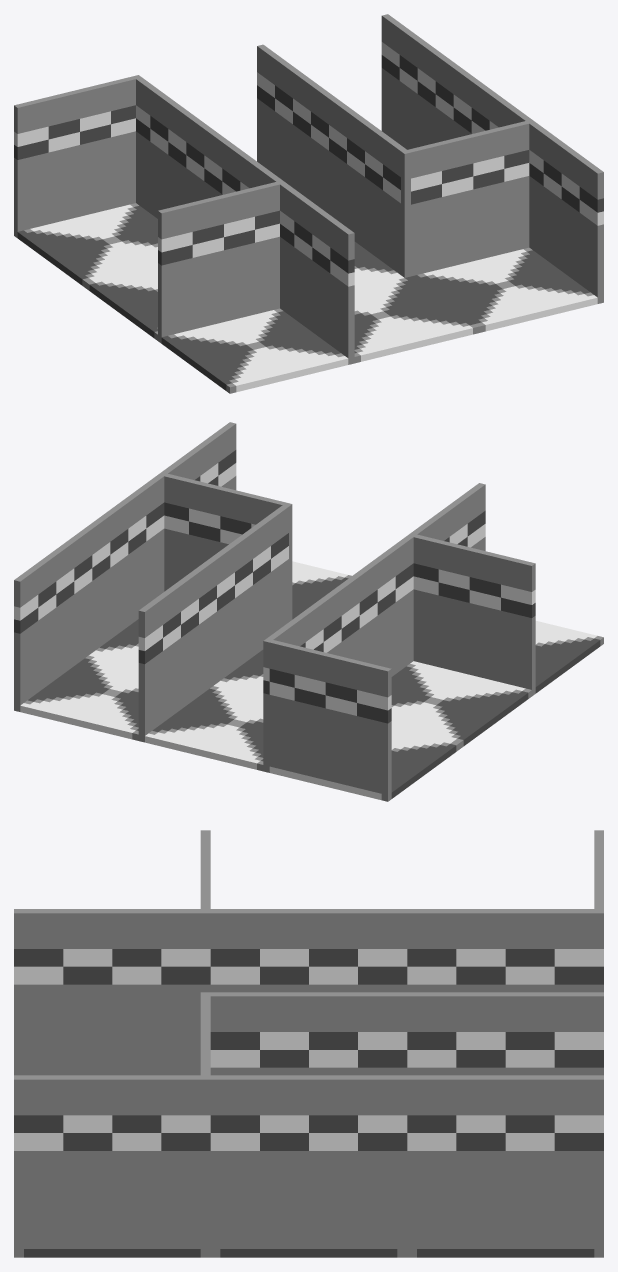
The model's file is level_maze-15.obj.
The picture shows the model from 3 angles, top to bottom: view 1: azimuth 30°, elevation 25°; view 2: azimuth 150°, elevation 25°; view 3: azimuth 270°, elevation 25°; orthographic projection. The views are drawn at different scales.
Visible parts, largest first — view 1: level_maze-15; view 2: level_maze-15; view 3: level_maze-15.
Boxes of the visible parts, bbox=[...] form: level_maze-15: bbox=[14, 14, 603, 393]; level_maze-15: bbox=[14, 422, 603, 801]; level_maze-15: bbox=[14, 830, 603, 1257].
Size of the model in its own units: 60 by 20 by 60.
Materials: 1 (1 with a texture image).
